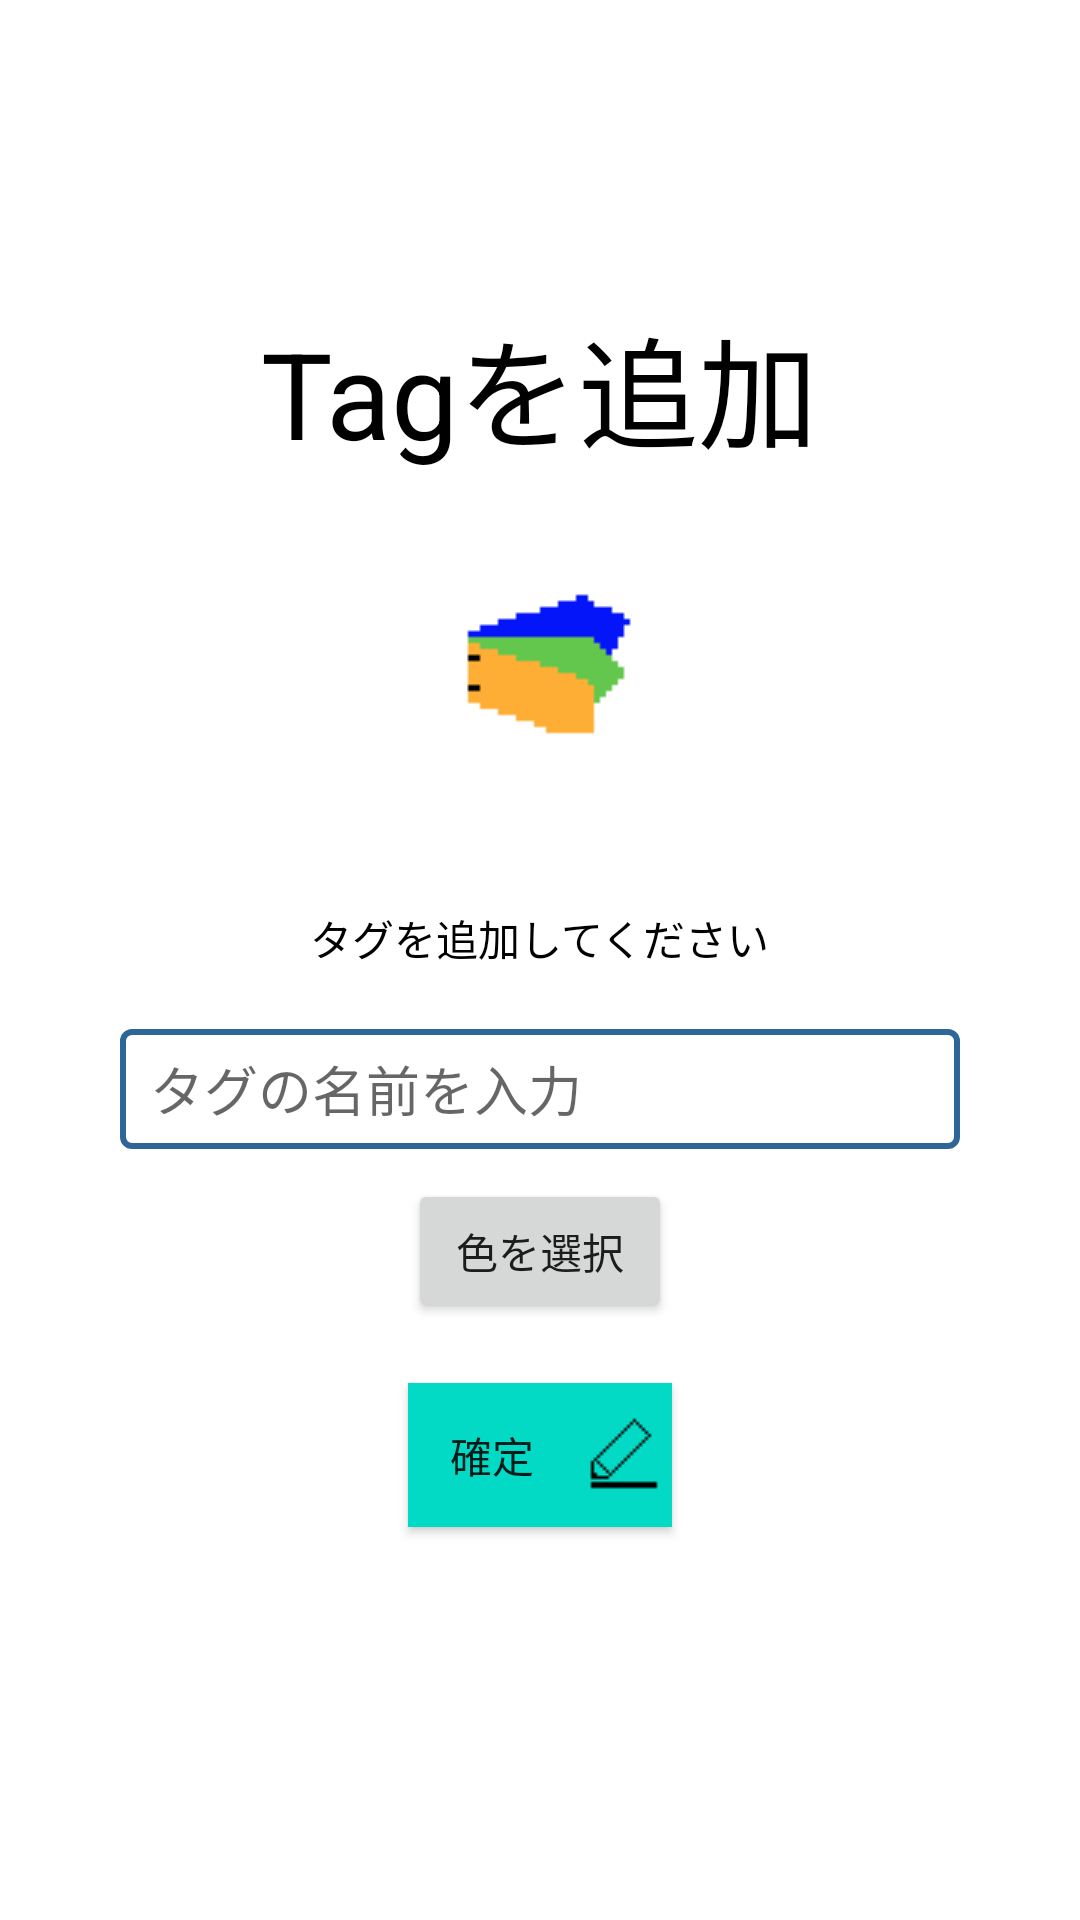

Screen size 1080 x 1920. Icon name, then its box in pixels as [left=x1, top=y1, right=x2, bottom=y2]:
tag: [left=467, top=594, right=631, bottom=734]
